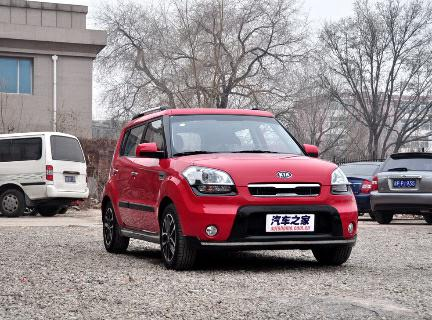起亚-秀尔: (95, 102, 365, 271)
